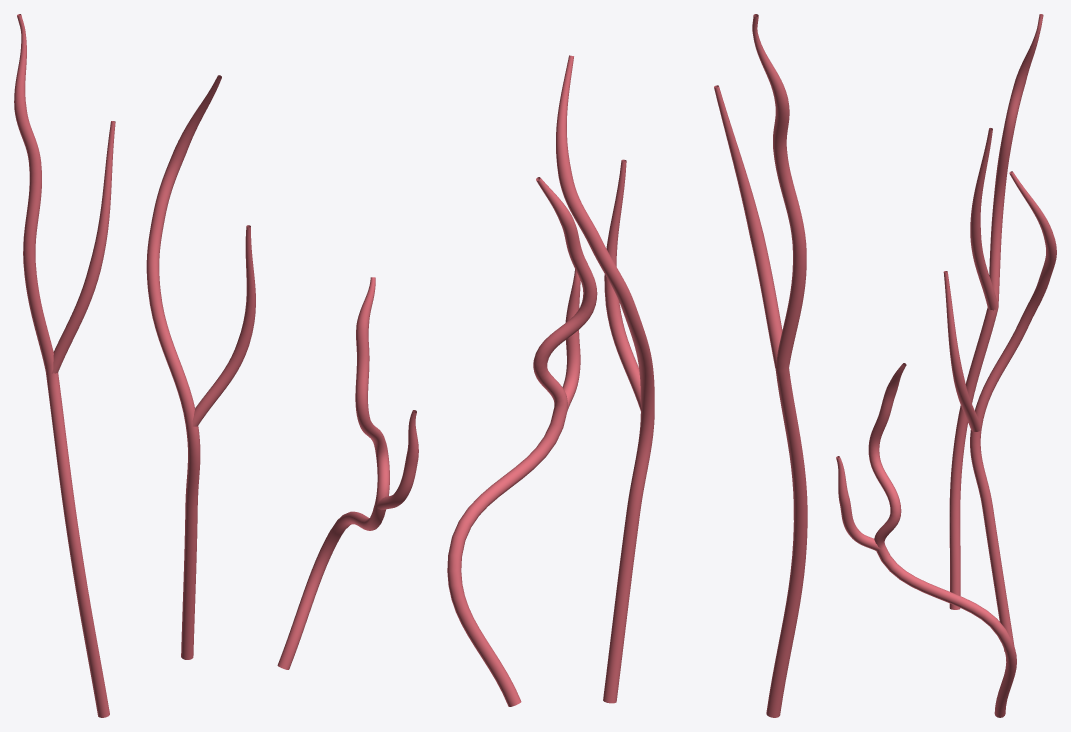
3 views of the same model, side by side, from view 1: azimuth 30°, elevation 25°; view 2: azimuth 150°, elevation 25°; view 3: azimuth 270°, elevation 25° (orthographic). The views are drawn at different scales.
Visible parts, largest first — view 1: ZA_0fb7938ede0307aa; view 2: ZA_0fb7938ede0307aa; view 3: ZA_0fb7938ede0307aa.
Boxes of the visible parts, x1,y1,x2,y2 form: ZA_0fb7938ede0307aa: [14, 14, 418, 717]; ZA_0fb7938ede0307aa: [447, 14, 807, 717]; ZA_0fb7938ede0307aa: [836, 14, 1056, 717].
Size of the model in its own units: 0.00586 by 0.0122 by 0.00407.
